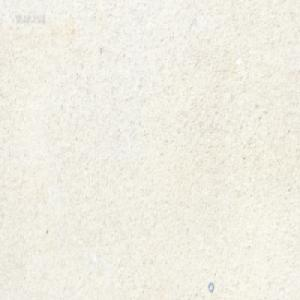Washer: (207, 281, 213, 292)
